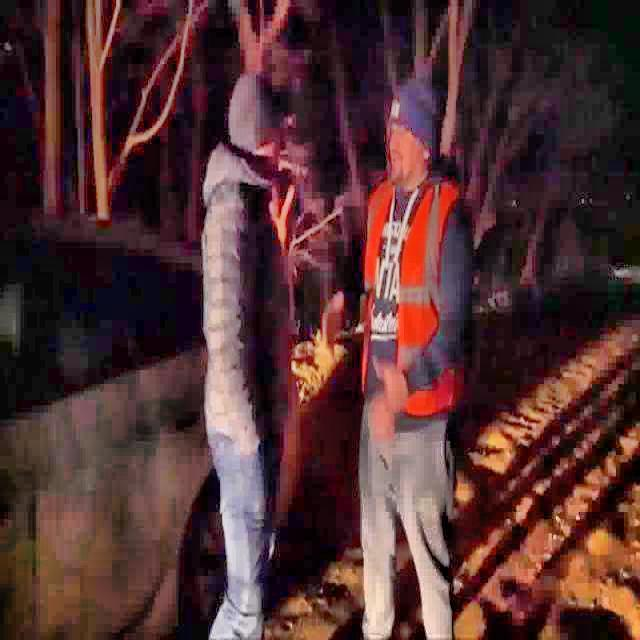safety_jacket: (362, 177, 454, 417)
